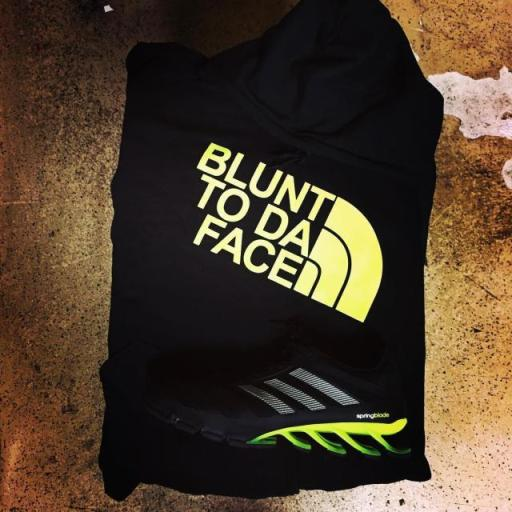The North Face: (292, 194, 386, 326)
